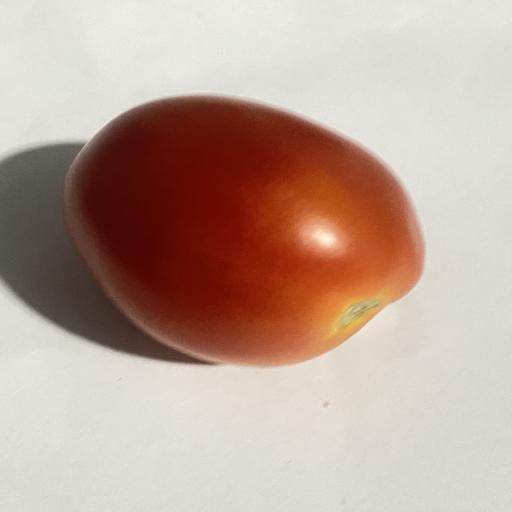ripe: (64, 96, 424, 366)
